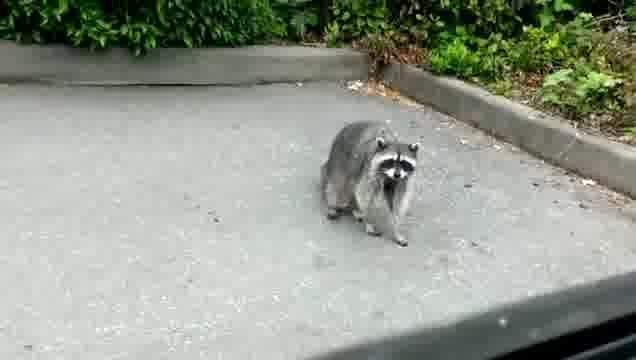raccoon: (316, 118, 429, 253)
